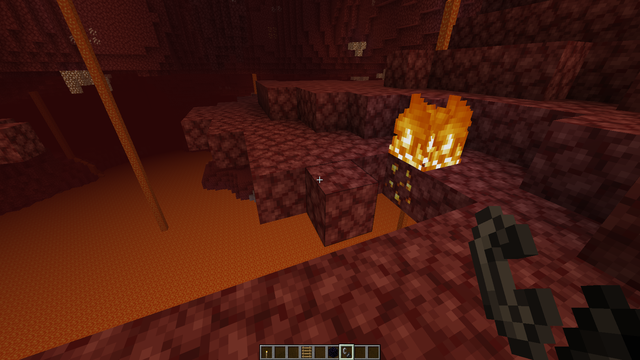nethergold: (378, 152, 426, 213)
